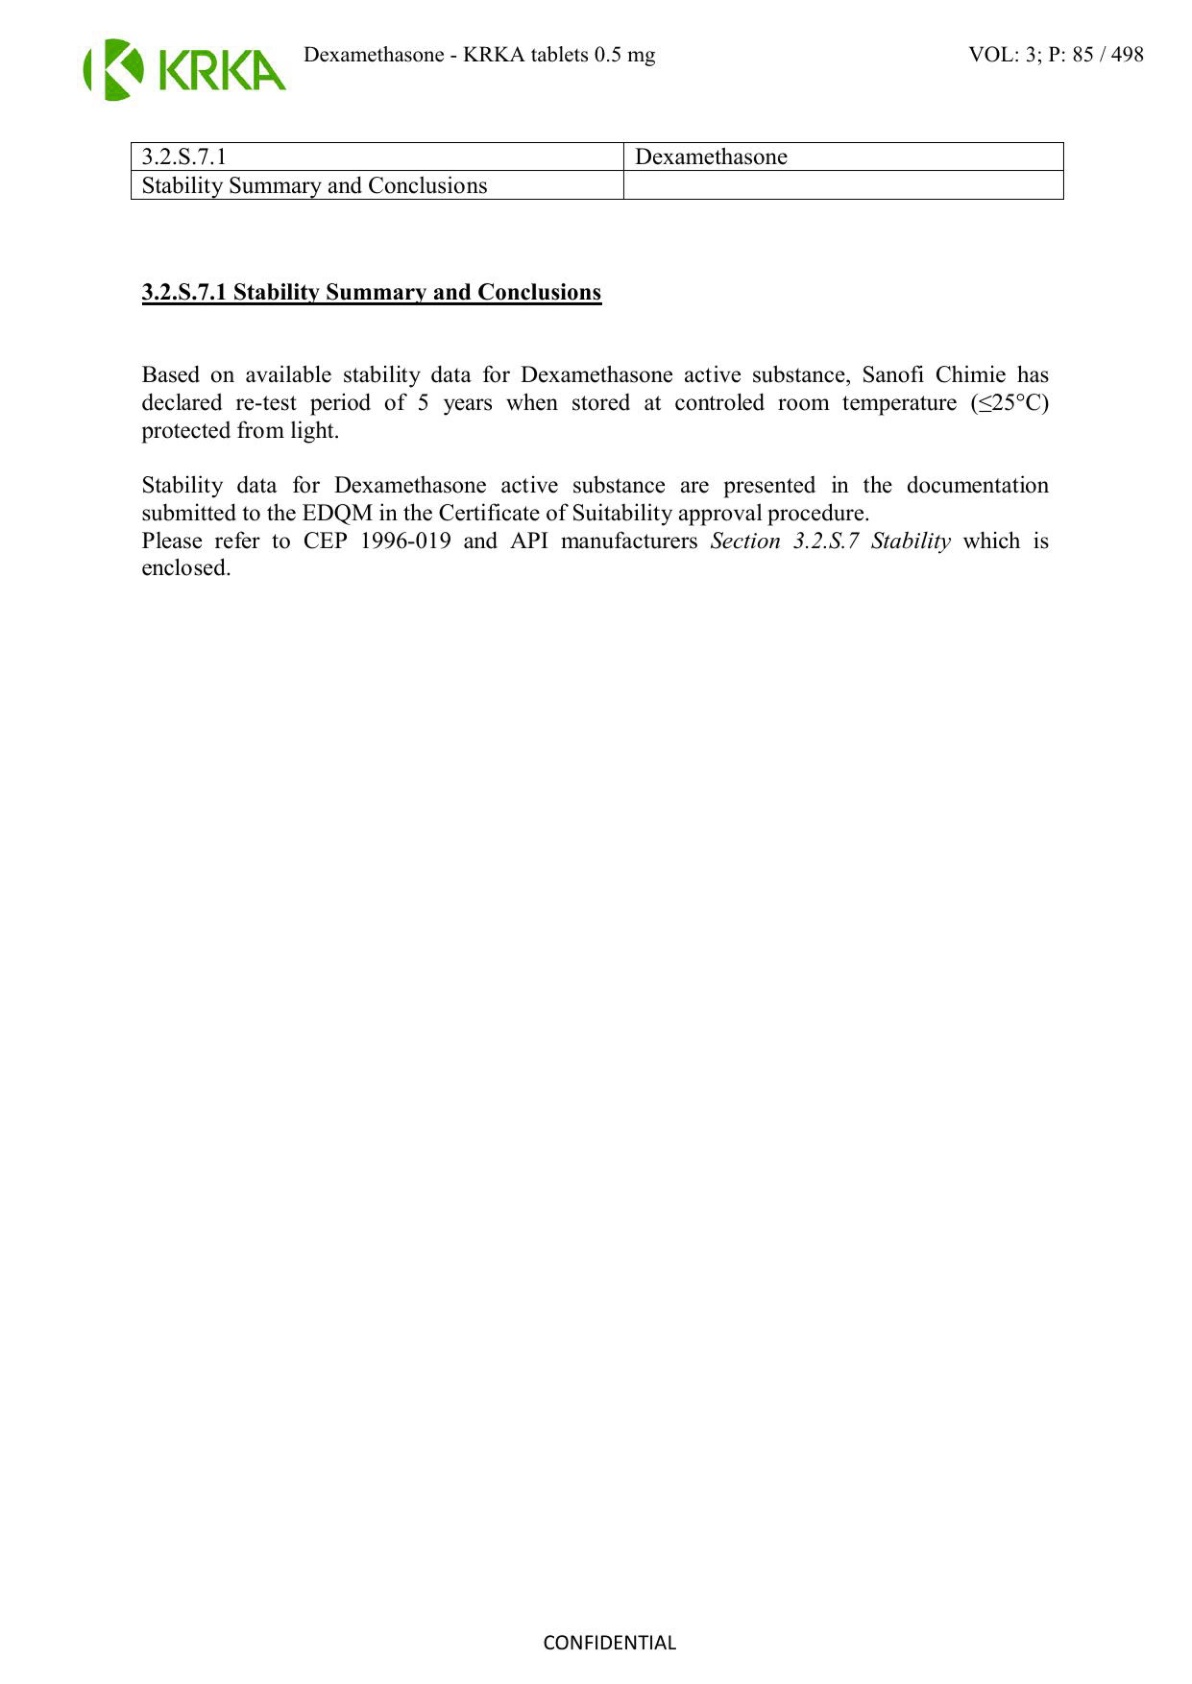full_lined: (129, 141, 1066, 200)
